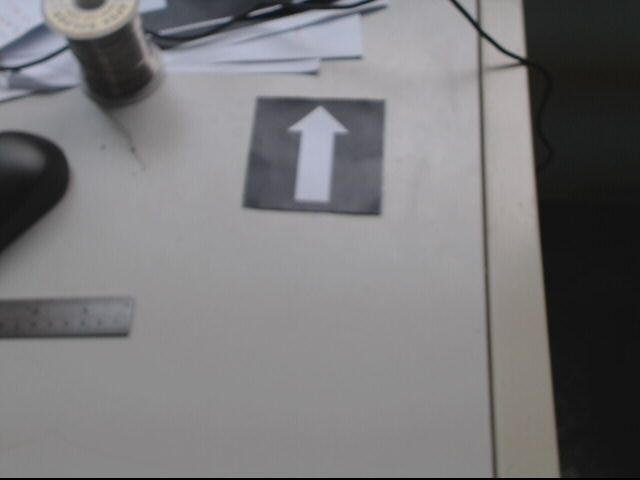straight: (242, 94, 384, 214)
